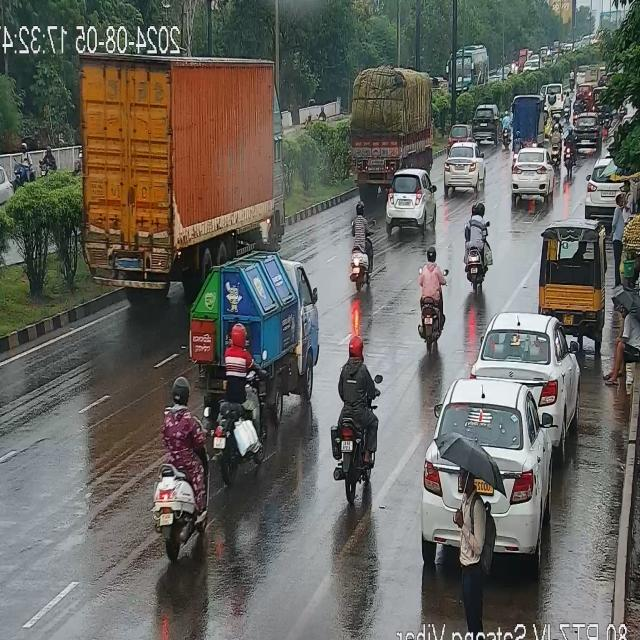2-wheelers: (156, 367, 208, 560), (328, 341, 381, 496), (222, 320, 264, 487), (412, 248, 444, 350), (340, 208, 376, 292), (460, 208, 496, 292), (565, 128, 576, 172), (553, 116, 561, 162), (572, 92, 583, 125), (502, 110, 510, 148), (563, 89, 571, 123), (569, 68, 574, 88)
auto: (535, 224, 607, 329), (508, 93, 544, 149)
bus: (446, 43, 490, 93)
car: (416, 384, 562, 562), (475, 315, 575, 416), (384, 174, 434, 236), (506, 154, 560, 204), (584, 162, 632, 216), (437, 146, 485, 192), (0, 146, 16, 216), (474, 102, 500, 144), (572, 112, 600, 150), (448, 124, 471, 150), (546, 82, 564, 110)
pedestrian: (446, 471, 492, 615), (607, 302, 640, 379), (608, 194, 630, 274)
truck: (70, 43, 280, 288), (218, 249, 318, 411), (342, 72, 432, 190)
